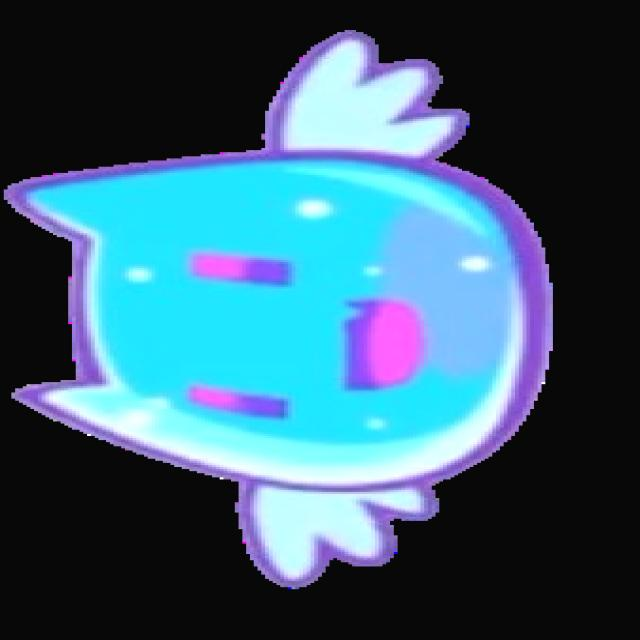mao: (1, 28, 556, 590)
